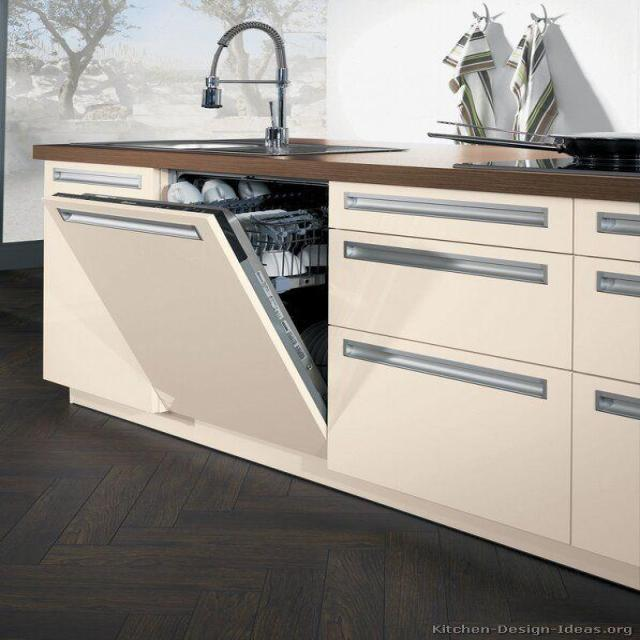dishwasher: (52, 144, 403, 530)
